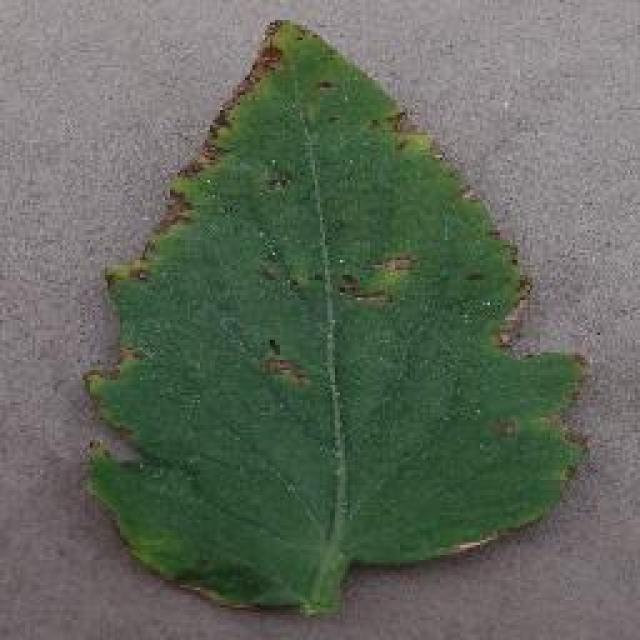Tom_Bacterial_spot: (148, 10, 298, 234), (257, 245, 418, 321), (242, 325, 326, 401), (381, 101, 454, 174)
